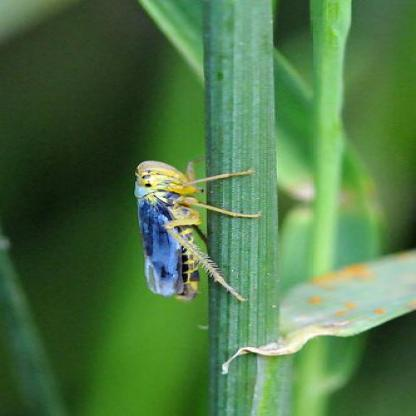Green-Leafhopper: (125, 154, 265, 314)
